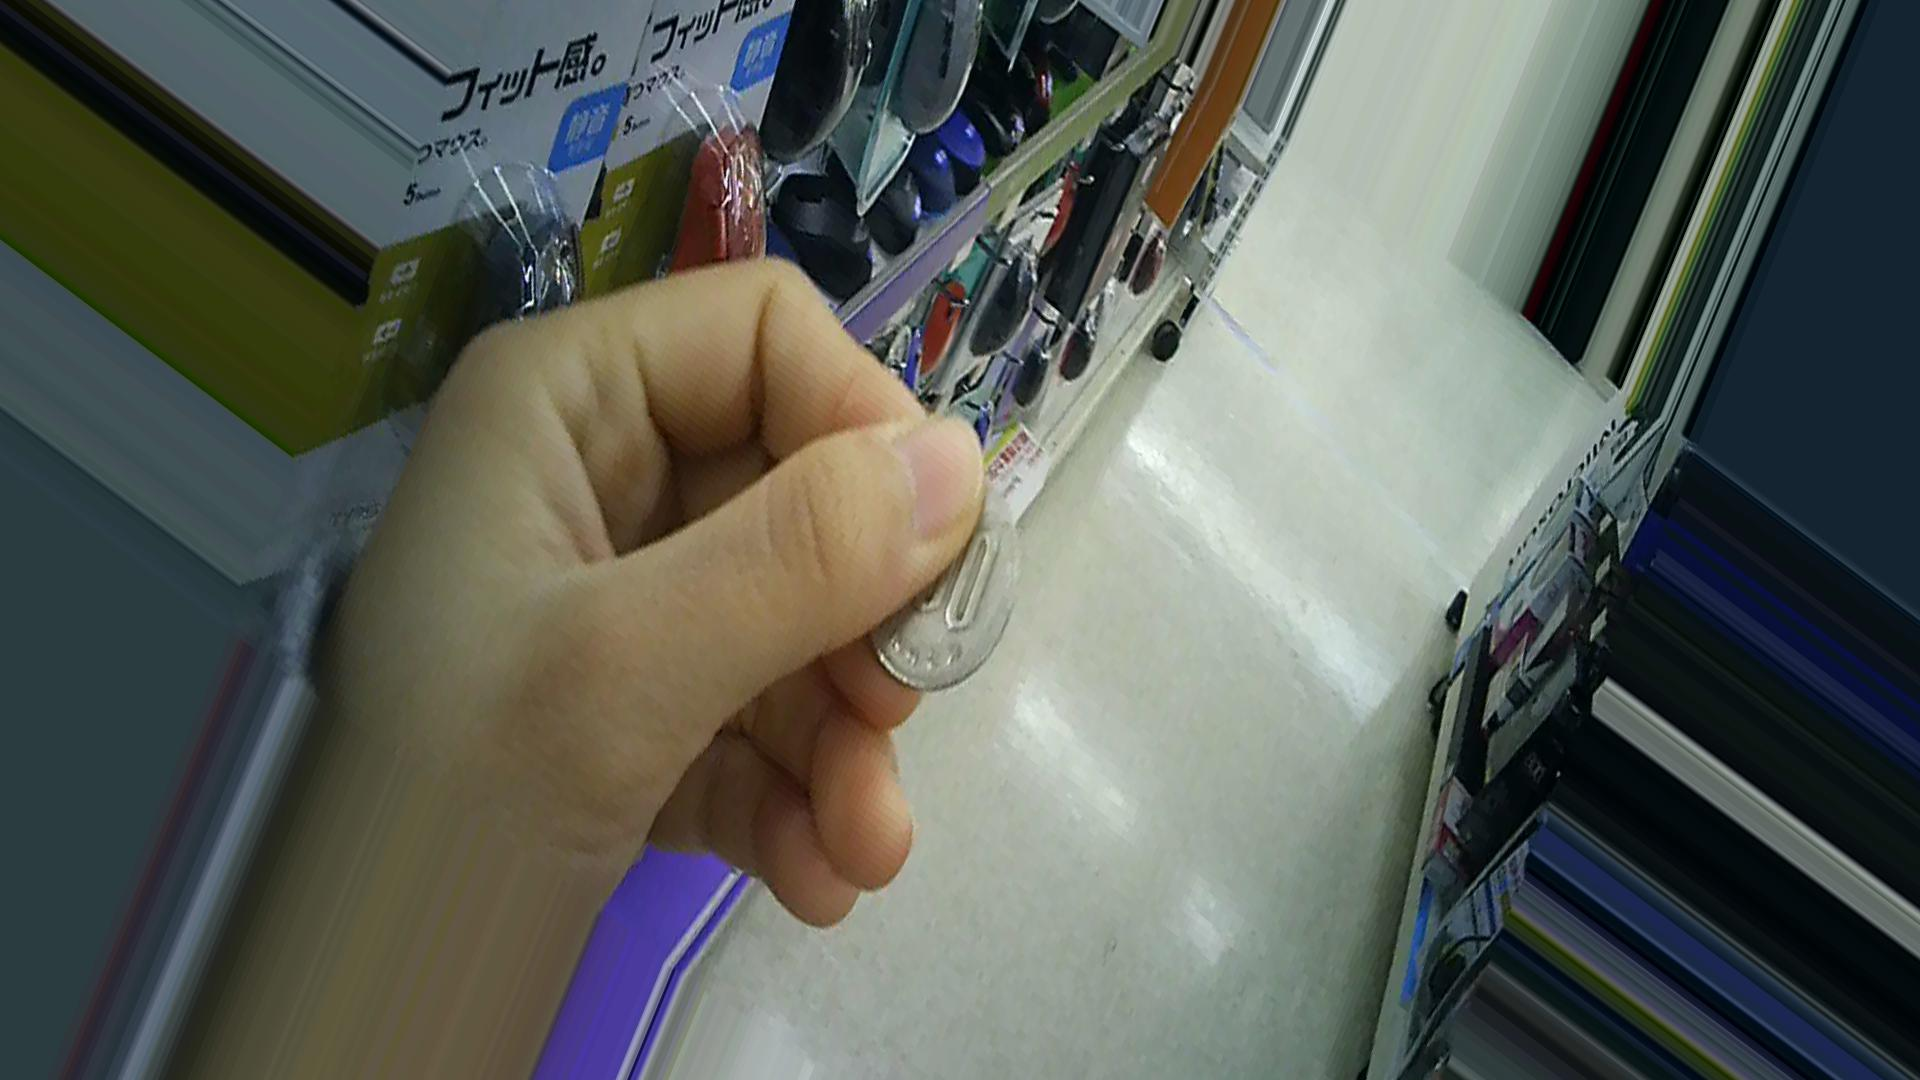100 Yen: (847, 472, 1040, 702)
